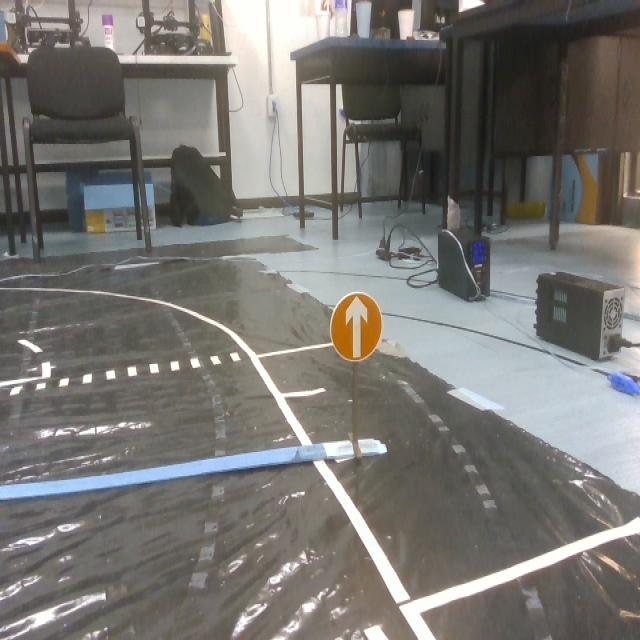right_turn: (331, 288, 384, 364)
